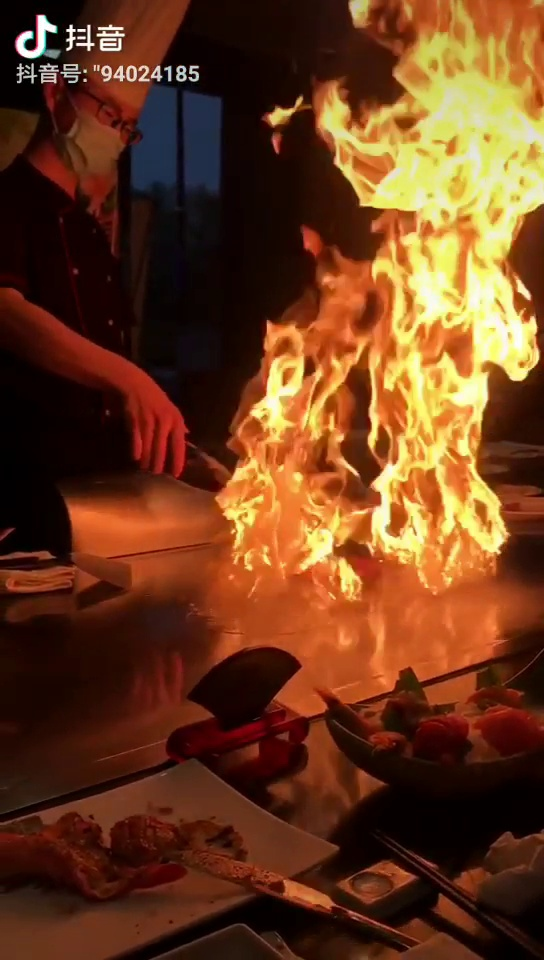fire: (241, 282, 496, 597), (303, 16, 537, 299)
